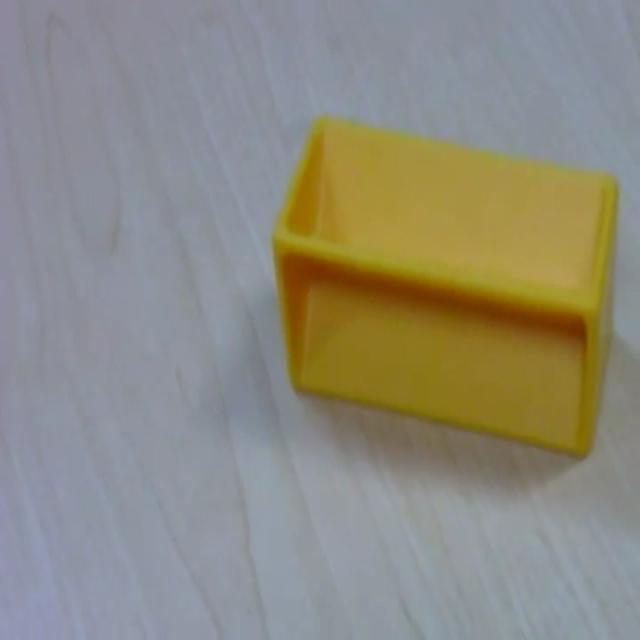yellow_block: (270, 111, 620, 460)
